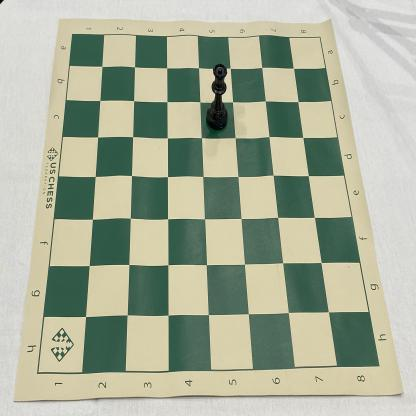black-queen: (205, 62, 229, 132)
